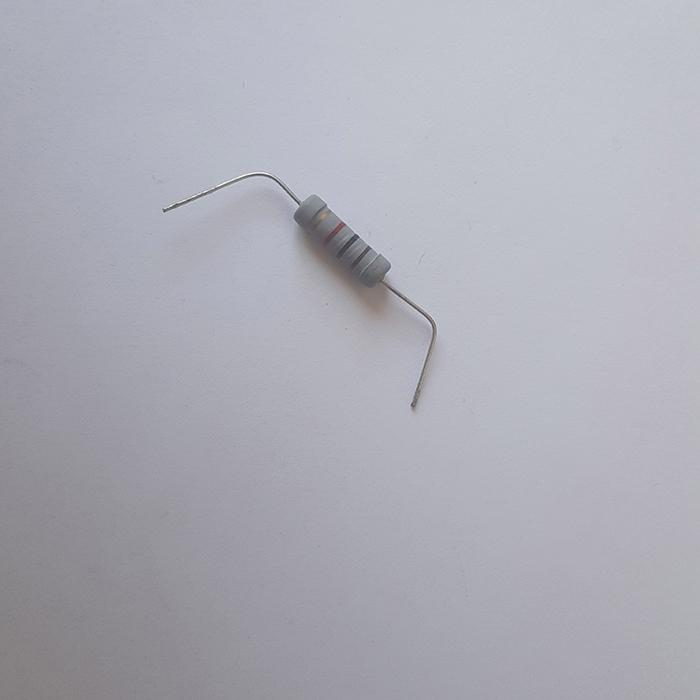resistor: (291, 192, 392, 289)
